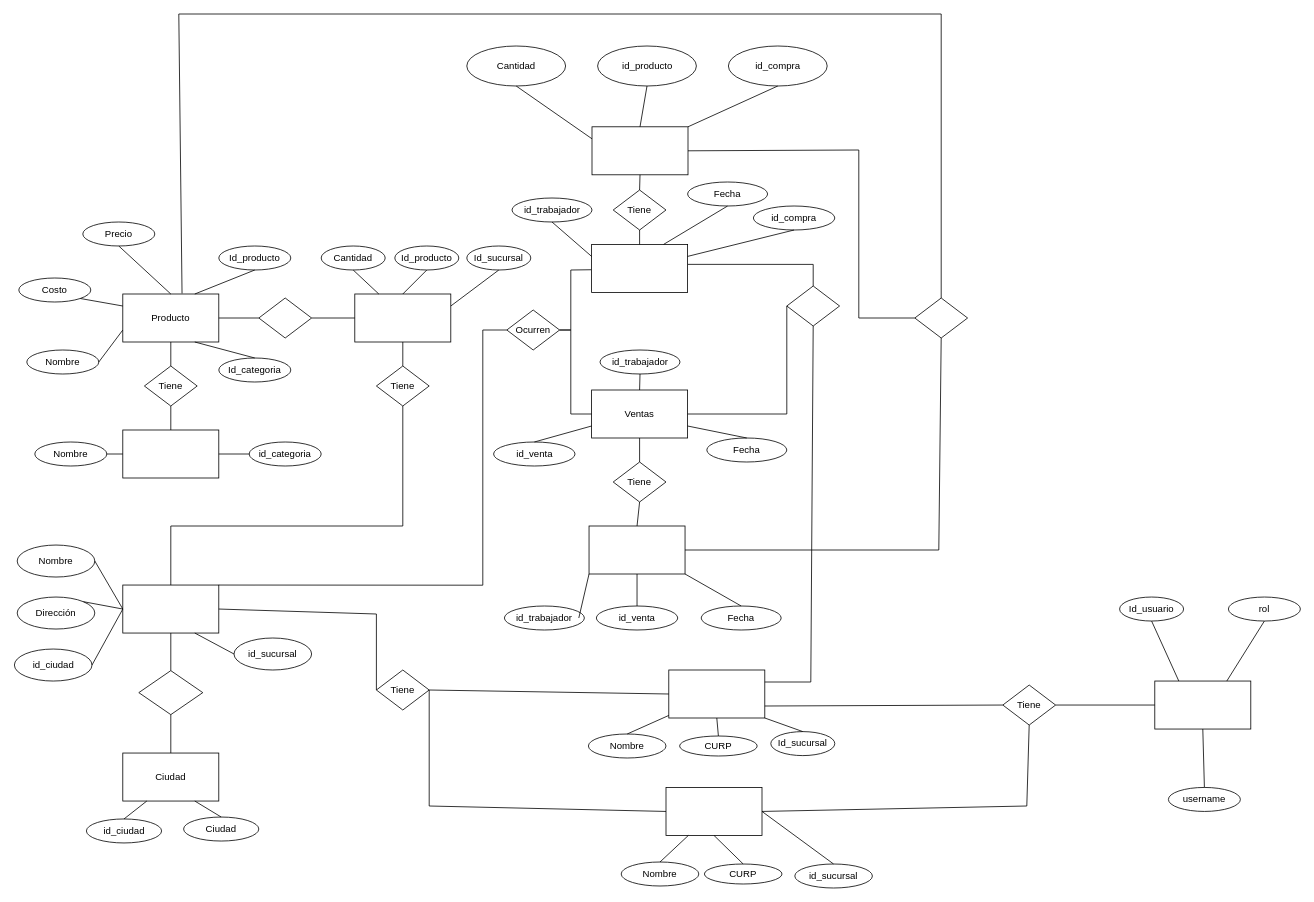
The diagram is 1314 pixels wide and 902 high, and some of its shapes have lost their labels. Here are the shapes that lost their labels. From the top down, the centre of each, then its label:
At pixel 639 150: "Detalle de compra".
At pixel 639 268: "Compras".
At pixel 285 317: "Pertenece".
At pixel 402 317: "Inventorio".
At pixel 813 305: "Registra".
At pixel 941 317: "Asocia".
At pixel 170 453: "Categoria".
At pixel 636 549: "Detalle de venta".
At pixel 170 608: "Sucursal".
At pixel 170 692: "Se encuentra".
At pixel 716 693: "Empleados".
At pixel 1202 704: "Usuario".
At pixel 713 811: "Arrendatario".
